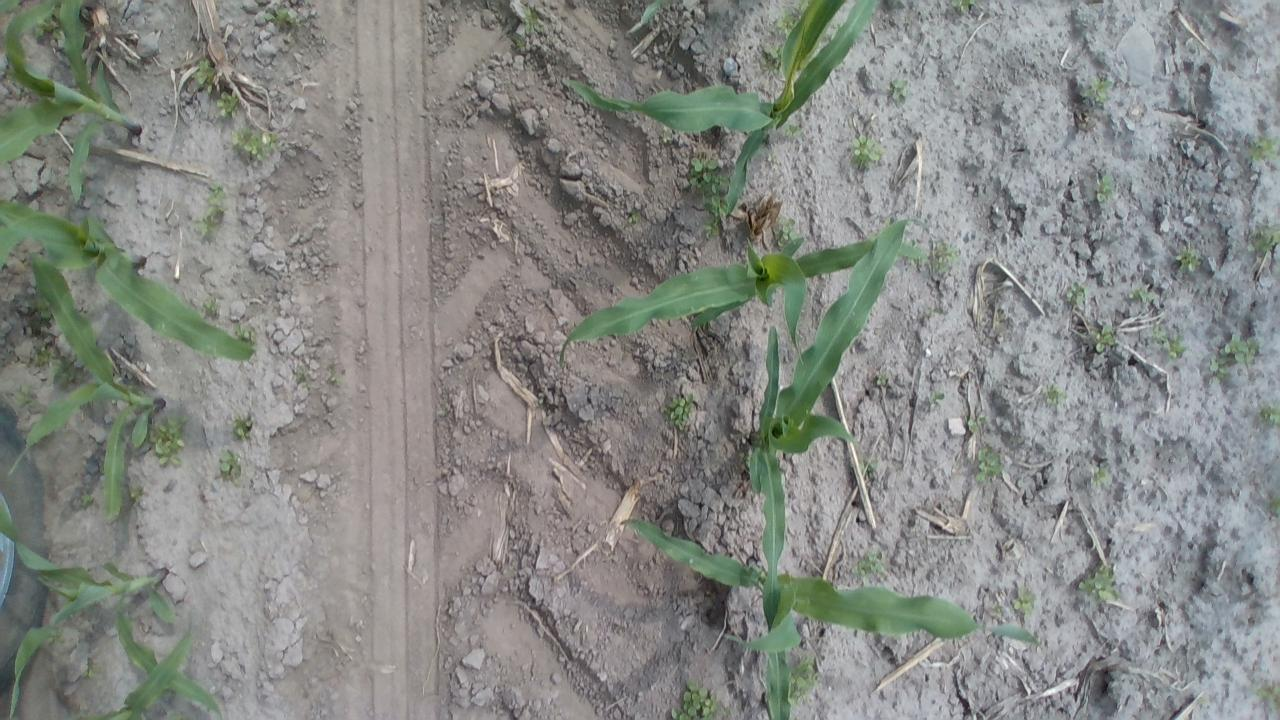Maize: (619, 512, 990, 716), (557, 0, 879, 215), (746, 221, 916, 605), (554, 218, 902, 374), (0, 503, 225, 720), (7, 248, 169, 514), (0, 202, 255, 363), (0, 2, 143, 214), (76, 636, 210, 718)
Weeds: (145, 413, 190, 471), (1210, 330, 1262, 379), (670, 679, 725, 719), (193, 183, 232, 238), (1074, 562, 1122, 605), (230, 124, 280, 165), (696, 174, 730, 234), (786, 652, 822, 708), (687, 154, 730, 200), (849, 134, 887, 170), (662, 392, 696, 432), (47, 353, 84, 388), (258, 6, 304, 34), (974, 442, 1004, 484), (1244, 130, 1278, 167), (1150, 326, 1188, 359), (1246, 219, 1276, 258), (930, 240, 961, 276), (218, 448, 248, 483), (1084, 74, 1116, 106), (518, 5, 544, 44), (773, 214, 801, 249), (32, 12, 63, 42), (852, 551, 886, 578), (193, 57, 220, 91), (31, 343, 66, 369), (1010, 587, 1040, 617), (774, 5, 801, 38), (1062, 280, 1089, 313), (1091, 172, 1118, 204), (230, 412, 257, 443), (1175, 243, 1202, 274), (7, 386, 39, 412), (1092, 323, 1118, 354), (1254, 680, 1277, 712), (761, 42, 784, 73), (215, 91, 241, 118), (1042, 380, 1067, 408), (904, 241, 928, 270), (1126, 283, 1156, 304), (887, 76, 910, 103), (1256, 401, 1278, 428), (290, 364, 312, 390), (1089, 465, 1111, 489), (127, 482, 148, 507), (201, 294, 220, 321), (925, 388, 948, 409), (325, 364, 345, 388), (656, 126, 680, 146), (232, 324, 256, 344), (966, 413, 986, 435), (860, 456, 881, 476), (948, 0, 978, 14), (784, 120, 806, 138), (924, 302, 944, 320), (625, 206, 641, 226), (80, 490, 97, 507), (871, 373, 890, 388), (1266, 490, 1276, 518), (166, 711, 188, 719)
